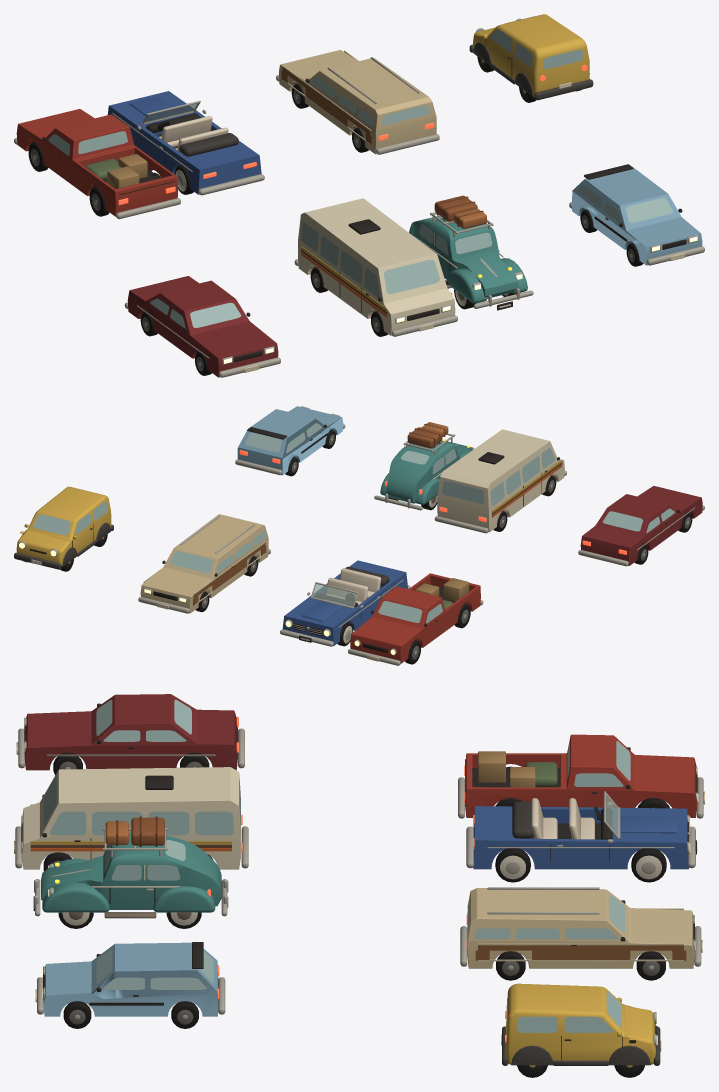
The model's file is parked_cars.glb.
3 views of the same model, one above another, from view 1: azimuth 30°, elevation 25°; view 2: azimuth 150°, elevation 25°; view 3: azimuth 270°, elevation 25° (orthographic). The views are drawn at different scales.
Visible parts, largest first — view 1: Van80, Wagon80, Pickup80, Sedan80, Parked_Convertible, Hatch80, Parked_Car, Parked_MiniEV; view 2: Van80, Wagon80, Pickup80, Parked_Convertible, Sedan80, Parked_MiniEV, Hatch80, Parked_Car; view 3: Van80, Wagon80, Pickup80, Sedan80, Parked_Car, Parked_Convertible, Parked_MiniEV, Hatch80, Convertible_Wheel_FR.001, Convertible_Wheel_RR.001, Wagon80_Wheel_RR, Wagon80_Wheel_FR (+2 smaller).
Boxes of the visible parts, box(x1,y1,x2,y2) form: Van80: box(294, 198, 457, 336); Wagon80: box(276, 50, 439, 154); Pickup80: box(14, 109, 180, 219); Sedan80: box(124, 276, 280, 377); Parked_Convertible: box(107, 91, 264, 195); Hatch80: box(569, 164, 704, 265); Parked_Car: box(409, 195, 533, 310); Parked_MiniEV: box(469, 14, 593, 100); Van80: box(434, 429, 566, 533); Wagon80: box(138, 514, 270, 613); Pickup80: box(348, 573, 483, 665); Parked_Convertible: box(280, 560, 410, 646); Sedan80: box(578, 486, 704, 566); Parked_MiniEV: box(14, 486, 113, 569); Hatch80: box(235, 406, 345, 475); Parked_Car: box(374, 422, 474, 510); Van80: box(14, 767, 248, 869); Wagon80: box(460, 887, 702, 968); Pickup80: box(458, 734, 704, 818); Sedan80: box(16, 694, 244, 770); Parked_Car: box(33, 816, 228, 918); Parked_Convertible: box(466, 791, 697, 869); Parked_MiniEV: box(501, 983, 661, 1065); Hatch80: box(35, 942, 225, 1016); Convertible_Wheel_FR.001: box(631, 848, 666, 882); Convertible_Wheel_RR.001: box(495, 848, 530, 882); Wagon80_Wheel_RR: box(496, 951, 525, 980); Wagon80_Wheel_FR: box(636, 951, 665, 980).
Size of the model in its own units: 16.87 by 2.12 by 14.75.
